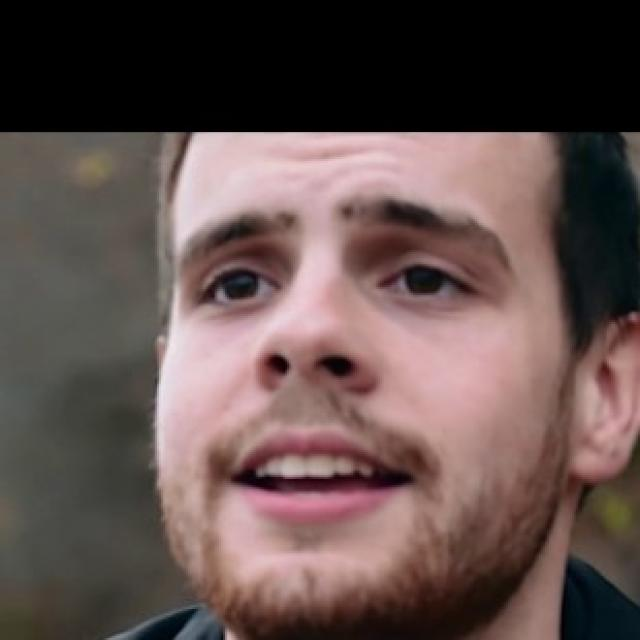Normal: (156, 129, 576, 630)
